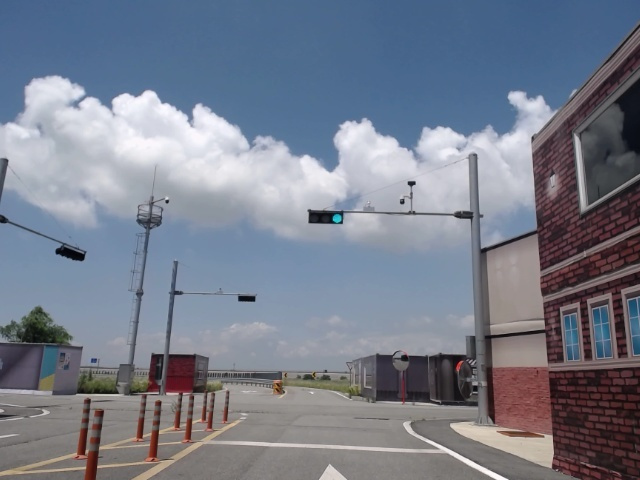green_3: (309, 211, 342, 223)
